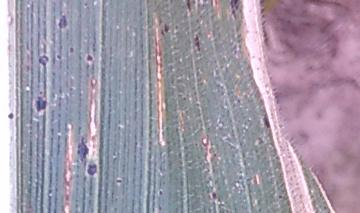tarspot: (31, 89, 50, 119), (76, 133, 91, 167), (55, 11, 71, 33), (85, 159, 100, 180), (37, 50, 52, 71), (228, 1, 243, 21), (192, 29, 203, 56), (261, 111, 273, 132), (83, 50, 96, 68), (158, 22, 173, 37), (184, 1, 196, 18), (53, 50, 66, 64), (206, 189, 221, 201), (252, 136, 268, 147), (67, 43, 77, 58), (6, 109, 16, 121), (113, 177, 124, 187), (156, 186, 164, 198), (276, 192, 285, 201), (82, 1, 90, 10), (157, 203, 164, 213)
